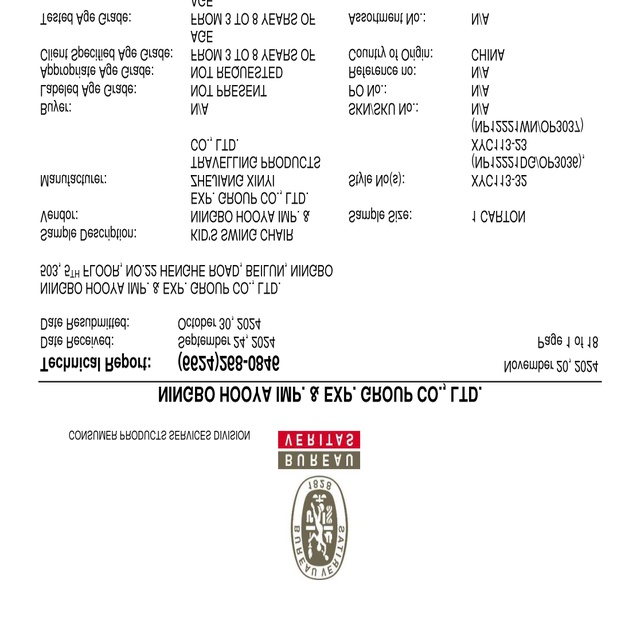bureau_veritas: (277, 430, 361, 581)
